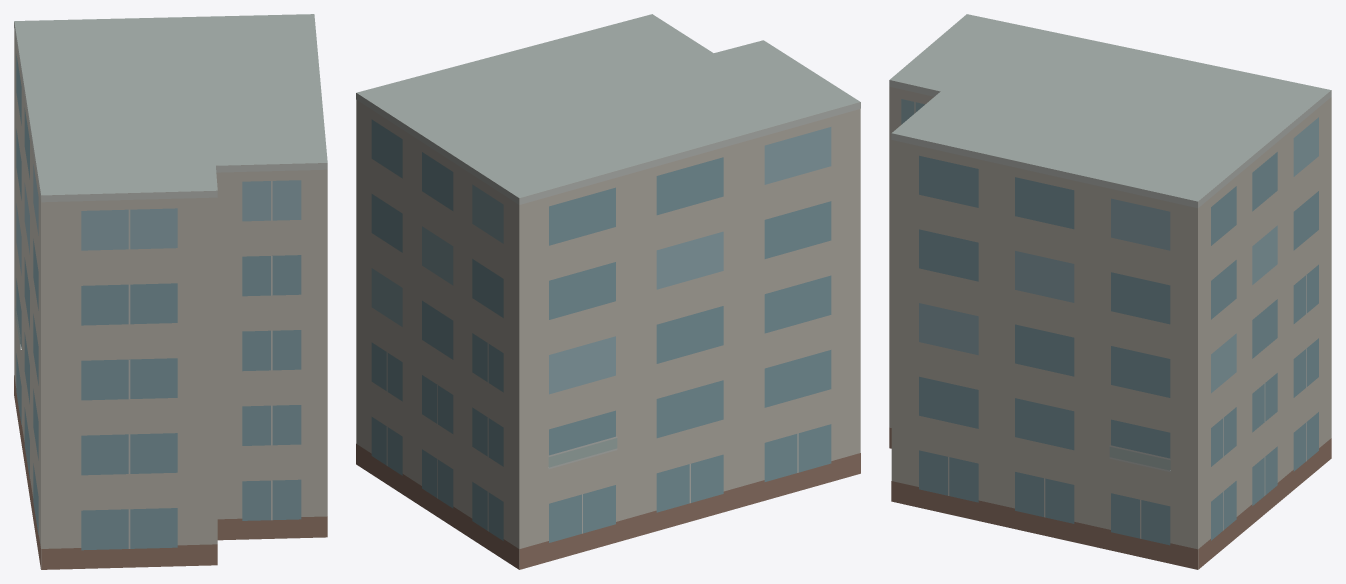
The model's file is survey-upis-32889238.glb.
The picture shows the model from 3 angles, left to right: view 1: azimuth 30°, elevation 25°; view 2: azimuth 150°, elevation 25°; view 3: azimuth 270°, elevation 25°; orthographic projection.
Parts seen in each view (by area): view 1: survey-upis-32889238.tmp; view 2: survey-upis-32889238.tmp; view 3: survey-upis-32889238.tmp.
Boxes of the visible parts, left/top/right/bottom form: survey-upis-32889238.tmp: left=14, top=14, right=327, bottom=569; survey-upis-32889238.tmp: left=356, top=14, right=860, bottom=569; survey-upis-32889238.tmp: left=889, top=14, right=1331, bottom=569.
Size of the model in its own units: 14.59 by 13.35 by 14.53.
